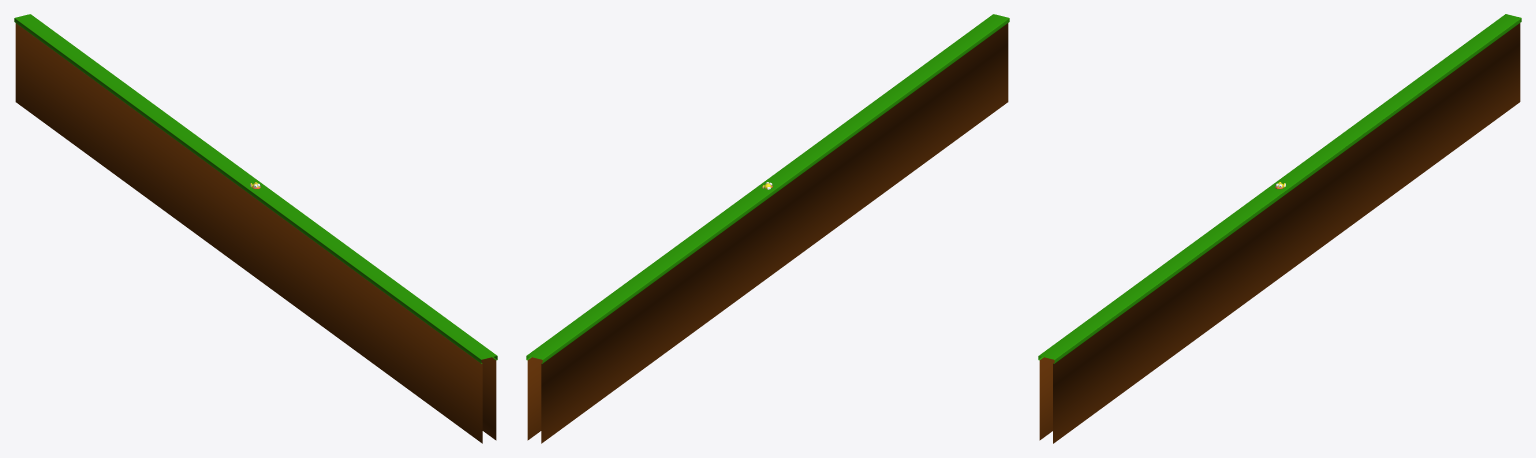
Rendered from flappyBird.fbx.
3 renders of one model, left to right at view 1: azimuth 30°, elevation 25°; view 2: azimuth 150°, elevation 25°; view 3: azimuth 330°, elevation 25°, orthographic.
Visible parts, largest first — view 1: flappyBirdGround; view 2: flappyBirdGround; view 3: flappyBirdGround.
Boxes of the visible parts, <box> form: flappyBirdGround: <box>14,14,497,443</box>; flappyBirdGround: <box>526,14,1009,443</box>; flappyBirdGround: <box>1038,14,1521,443</box>.
Size of the model in its own units: 400 by 2081 by 20000.
